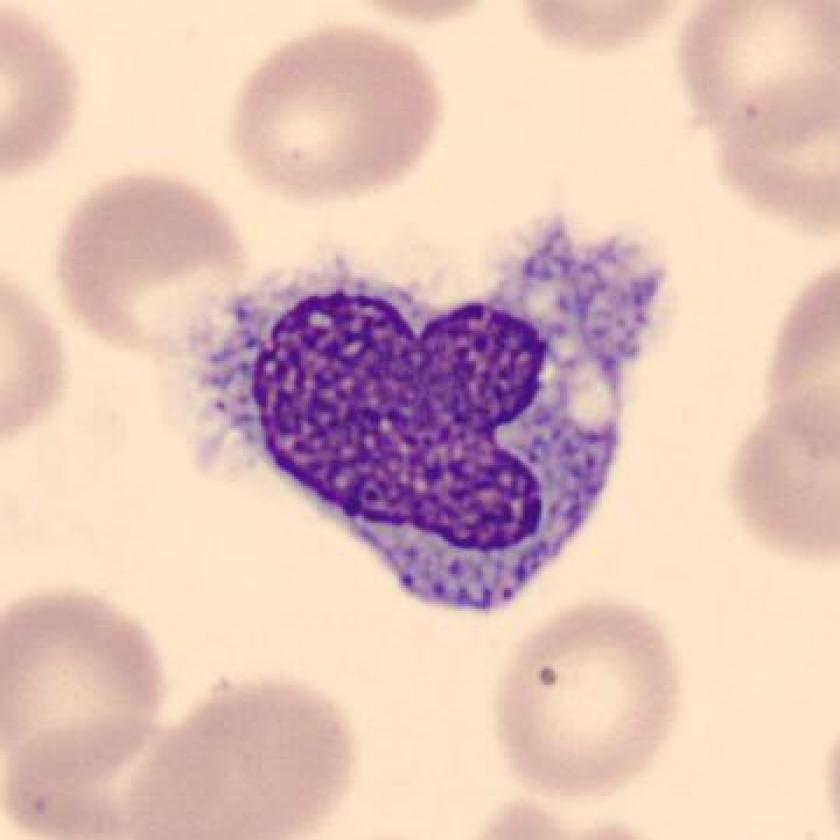monocyte: (171, 193, 685, 640)
